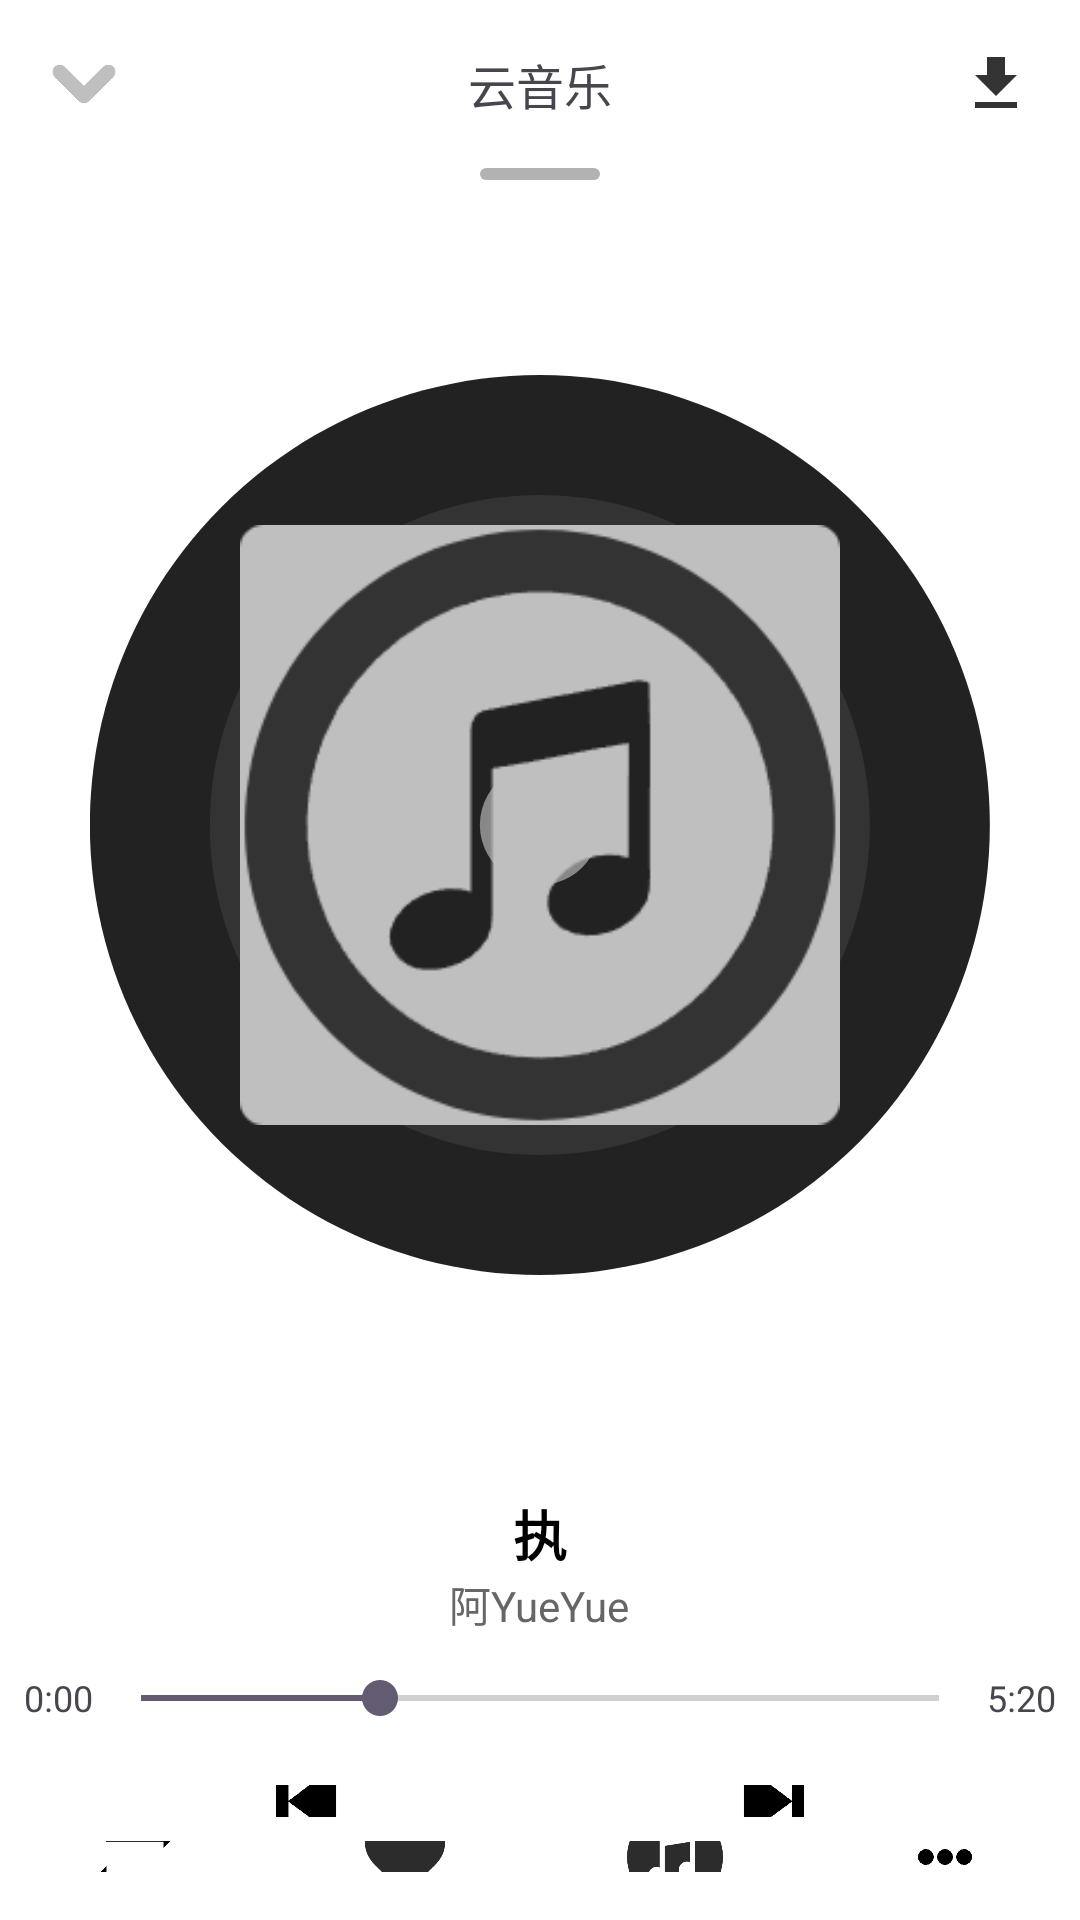

Named icons in this screenshot (1080 x 1920) and their bounding boxes, [left=x1, top=y1, right=x2, bottom=y2]:
down: [left=53, top=65, right=115, bottom=103]
download: [left=975, top=57, right=1017, bottom=108]
